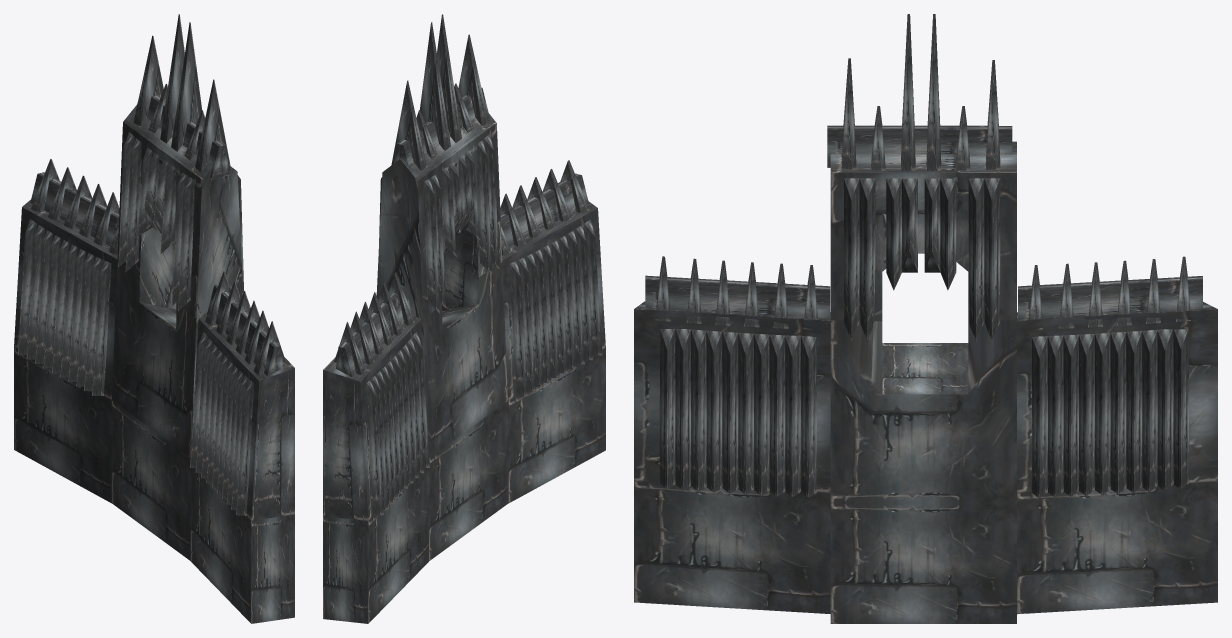
Rendered from Gate.fbx.
3 renders of one model, left to right at view 1: azimuth 30°, elevation 25°; view 2: azimuth 150°, elevation 25°; view 3: azimuth 270°, elevation 25°, orthographic. The views are drawn at different scales.
Parts seen in each view (by area): view 1: icecrown_wall_gate01; view 2: icecrown_wall_gate01; view 3: icecrown_wall_gate01.
Boxes of the visible parts, <box> form: icecrown_wall_gate01: <box>14,14,294,623</box>; icecrown_wall_gate01: <box>323,14,605,623</box>; icecrown_wall_gate01: <box>634,14,1217,623</box>.
Bounding box in the file's own units: 4762 × 25840 × 22961.
